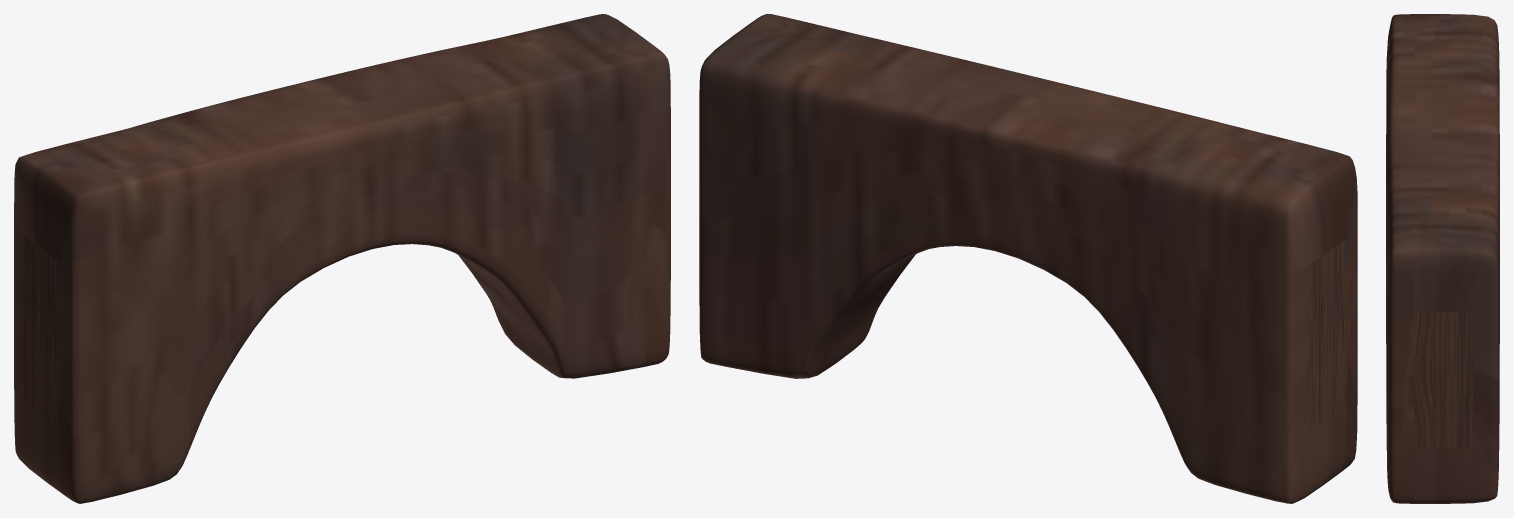
File: arch.obj
The picture shows the model from 3 angles, left to right: view 1: azimuth 30°, elevation 25°; view 2: azimuth 150°, elevation 25°; view 3: azimuth 270°, elevation 25°; orthographic projection. The views are drawn at different scales.
Parts seen in each view (by area): view 1: pCube3; view 2: pCube3; view 3: pCube3.
Boxes of the visible parts, left/top/right/bottom form: pCube3: left=14, top=14, right=670, bottom=503; pCube3: left=699, top=14, right=1357, bottom=503; pCube3: left=1386, top=14, right=1499, bottom=503.
Size of the model in its own units: 9.98 by 4.97 by 1.99.
